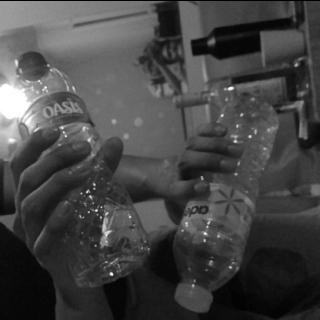plastic_bottles: (12, 50, 155, 288), (173, 90, 281, 310)
